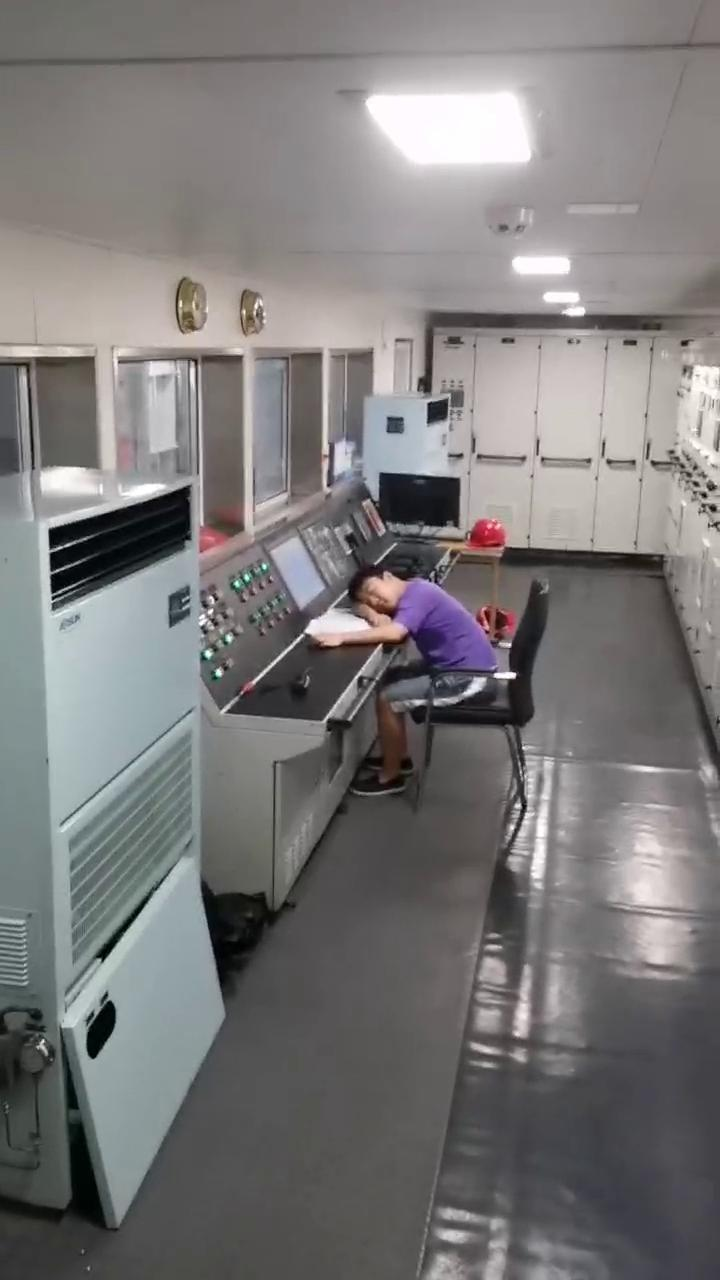sleep: (315, 568, 498, 708)
